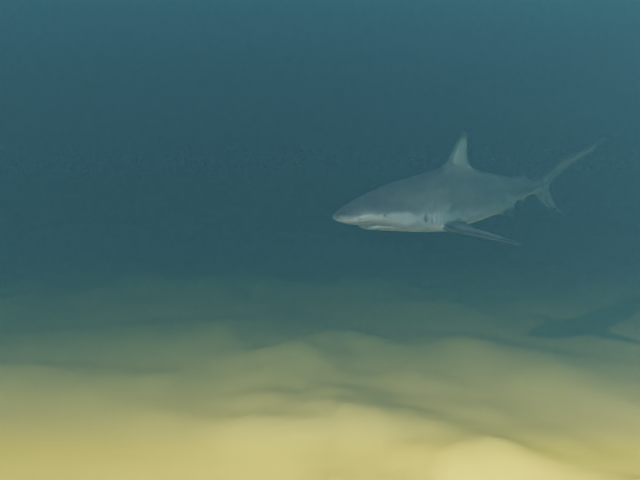Carribean Shark.001: (332, 130, 608, 245)
